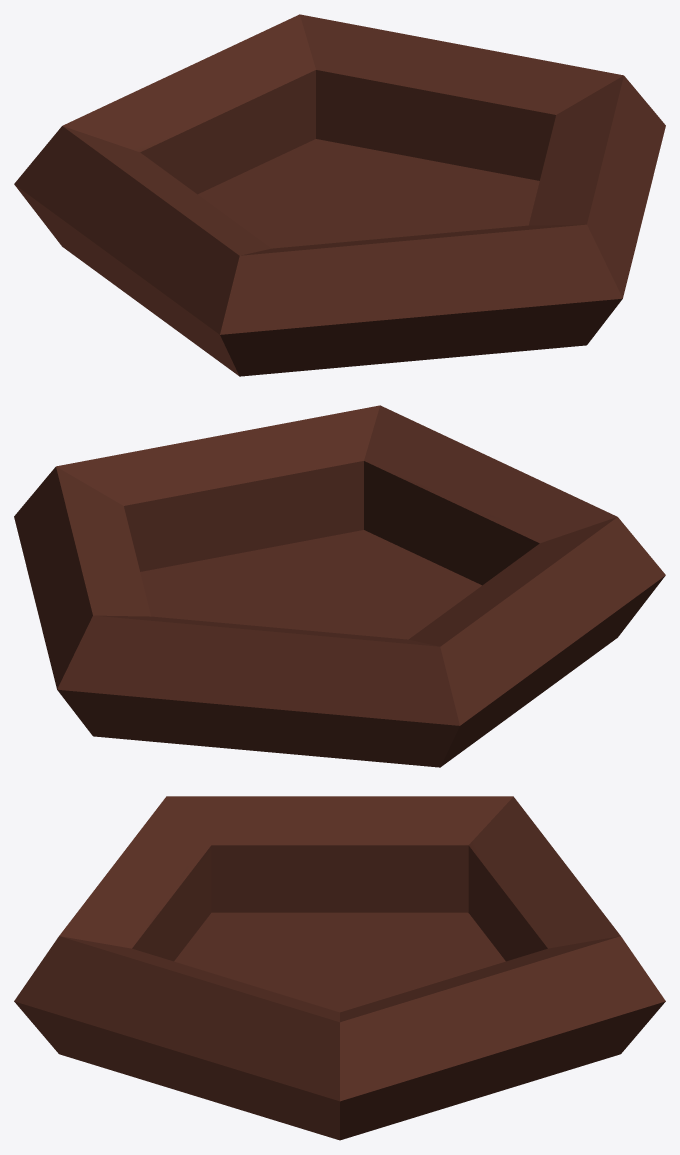
Rendered from NestFBX.fbx.
The picture shows the model from 3 angles, top to bottom: view 1: azimuth 30°, elevation 25°; view 2: azimuth 150°, elevation 25°; view 3: azimuth 270°, elevation 25°; orthographic projection. The views are drawn at different scales.
Parts seen in each view (by area): view 1: Torus.004, Плоскость.001; view 2: Torus.004, Плоскость.001; view 3: Torus.004, Плоскость.001.
Boxes of the visible parts, left/top/right/bottom form: Torus.004: left=14, top=14, right=665, bottom=376; Плоскость.001: left=198, top=139, right=539, bottom=248; Torus.004: left=14, top=405, right=665, bottom=767; Плоскость.001: left=140, top=530, right=481, bottom=639; Torus.004: left=14, top=796, right=665, bottom=1140; Плоскость.001: left=174, top=912, right=505, bottom=1012.
Bounding box in the file's own units: 226 × 47.55 × 238.
